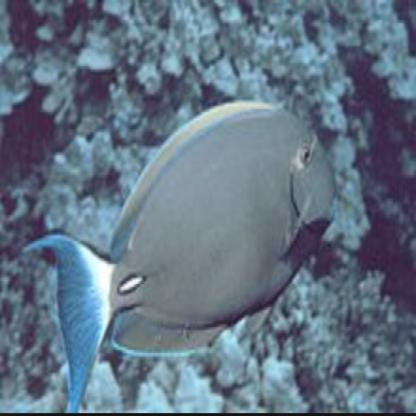surgeon: (25, 97, 341, 416)
